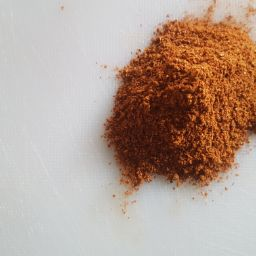Cinemon powder: (85, 2, 256, 216)
